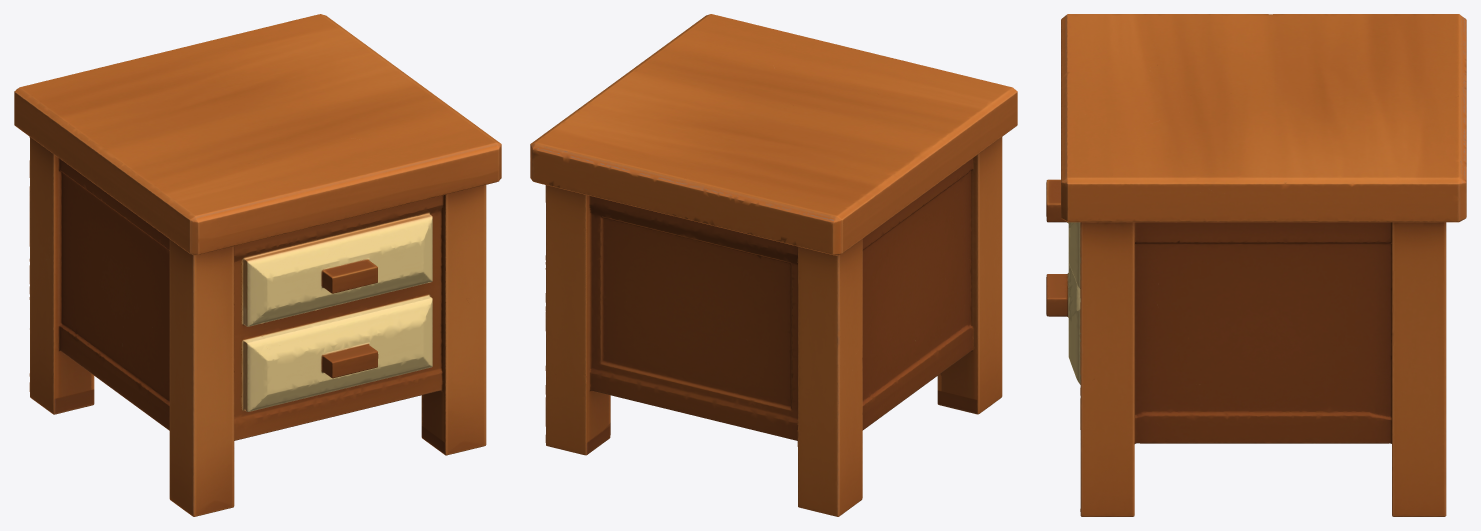
File: Cajon.glb
3 renders of one model, left to right at view 1: azimuth 30°, elevation 25°; view 2: azimuth 150°, elevation 25°; view 3: azimuth 270°, elevation 25°, orthographic. The views are drawn at different scales.
Size of the model in its own units: 1.82 by 1.71 by 1.9.
1 material, 1 textured.
